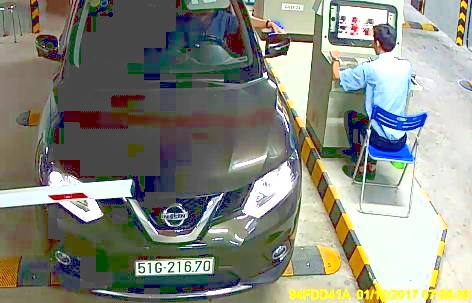plate: (133, 257, 217, 275)
